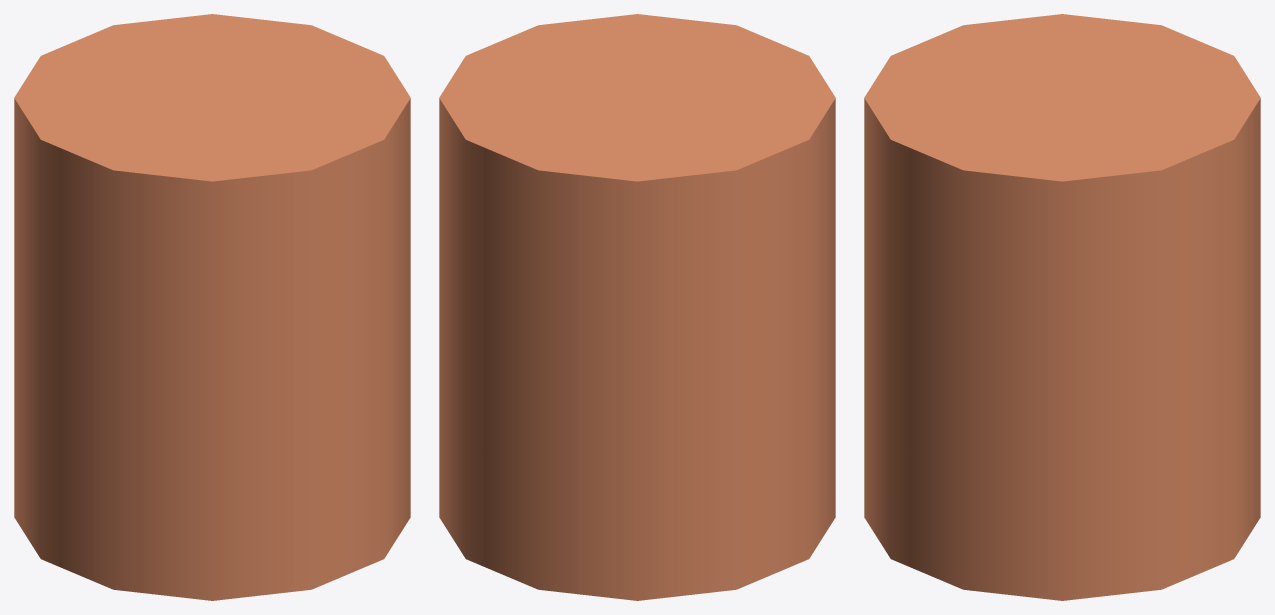
File: Tree_01_lvl.fbx
3 renders of one model, left to right at view 1: azimuth 30°, elevation 25°; view 2: azimuth 150°, elevation 25°; view 3: azimuth 270°, elevation 25°, orthographic.
Parts seen in each view (by area): view 1: tree_4.002; view 2: tree_4.002; view 3: tree_4.002.
Part boxes in pixels (x1=…): tree_4.002: x1=14, y1=14, x2=410, y2=600; tree_4.002: x1=439, y1=14, x2=835, y2=600; tree_4.002: x1=864, y1=14, x2=1260, y2=600.
Bounding box in the file's own units: 30.61 × 35.71 × 30.61.
